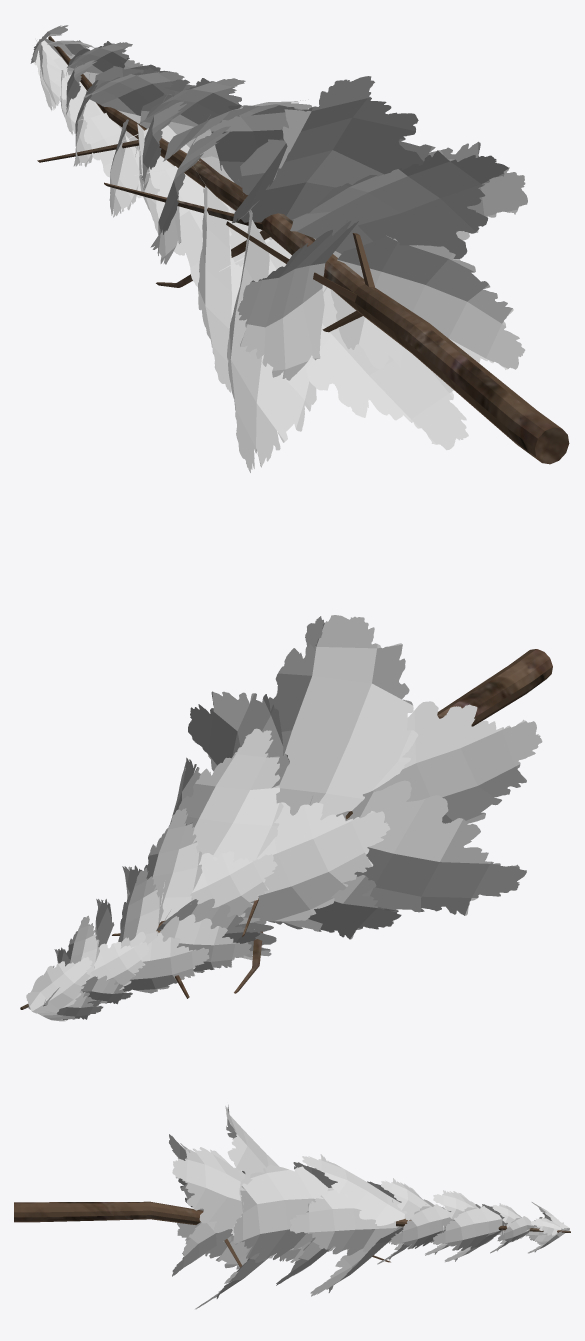
File: Tree2.fbx
The picture shows the model from 3 angles, top to bottom: view 1: azimuth 30°, elevation 25°; view 2: azimuth 150°, elevation 25°; view 3: azimuth 270°, elevation 25°; orthographic projection. The views are drawn at different scales.
Visible parts, largest first — view 1: Tree2Merged; view 2: Tree2Merged; view 3: Tree2Merged.
Part boxes in pixels (x1=…): Tree2Merged: x1=30, y1=25, x2=569, y2=472; Tree2Merged: x1=20, y1=615, x2=552, y2=1021; Tree2Merged: x1=14, y1=1104, x2=570, y2=1309.
Bounding box in the file's own units: 994 × 1076 × 2389.
2 materials, 1 textured.
